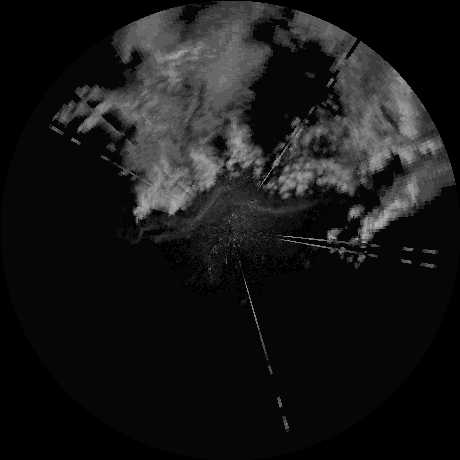frontgust: (145, 185, 229, 243), (246, 195, 330, 215)
